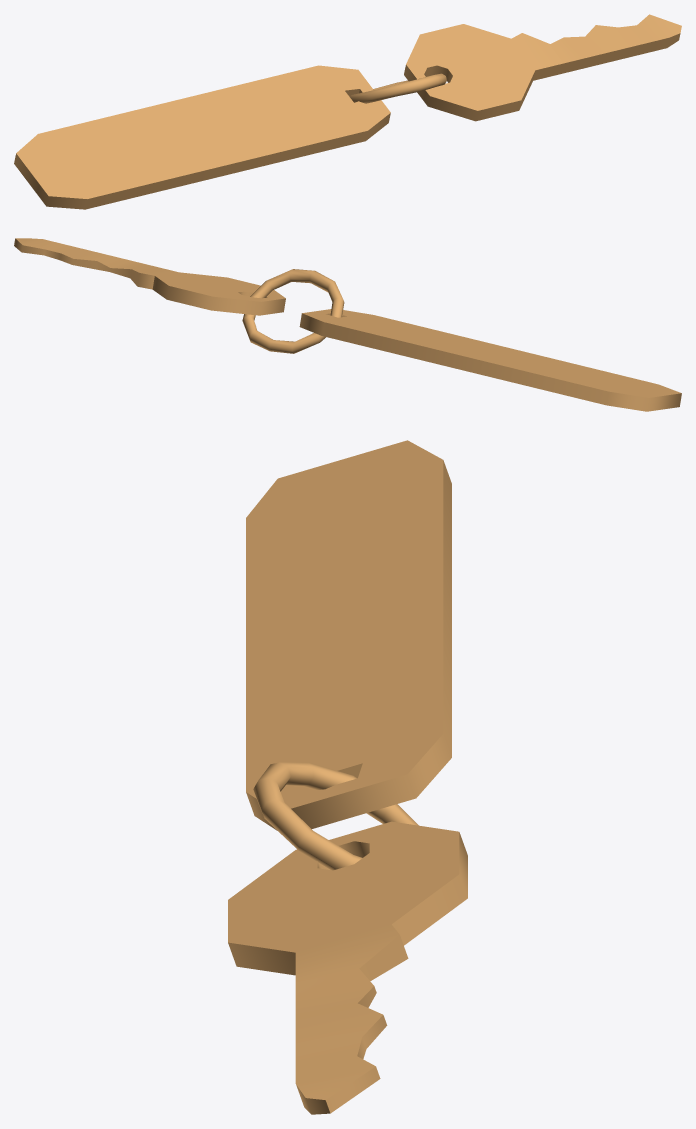
File: SM_PadLockKey.fbx
3 renders of one model, top to bottom at view 1: azimuth 30°, elevation 25°; view 2: azimuth 150°, elevation 25°; view 3: azimuth 270°, elevation 25°, orthographic. The views are drawn at different scales.
Parts seen in each view (by area): view 1: SM_PadLockKey; view 2: SM_PadLockKey; view 3: SM_PadLockKey.
Part boxes in pixels (<box>): SM_PadLockKey: <box>14,14,681,209</box>; SM_PadLockKey: <box>14,238,681,411</box>; SM_PadLockKey: <box>228,440,467,1114</box>.
Size of the model in its own units: 45.26 by 3.33 by 7.29.
